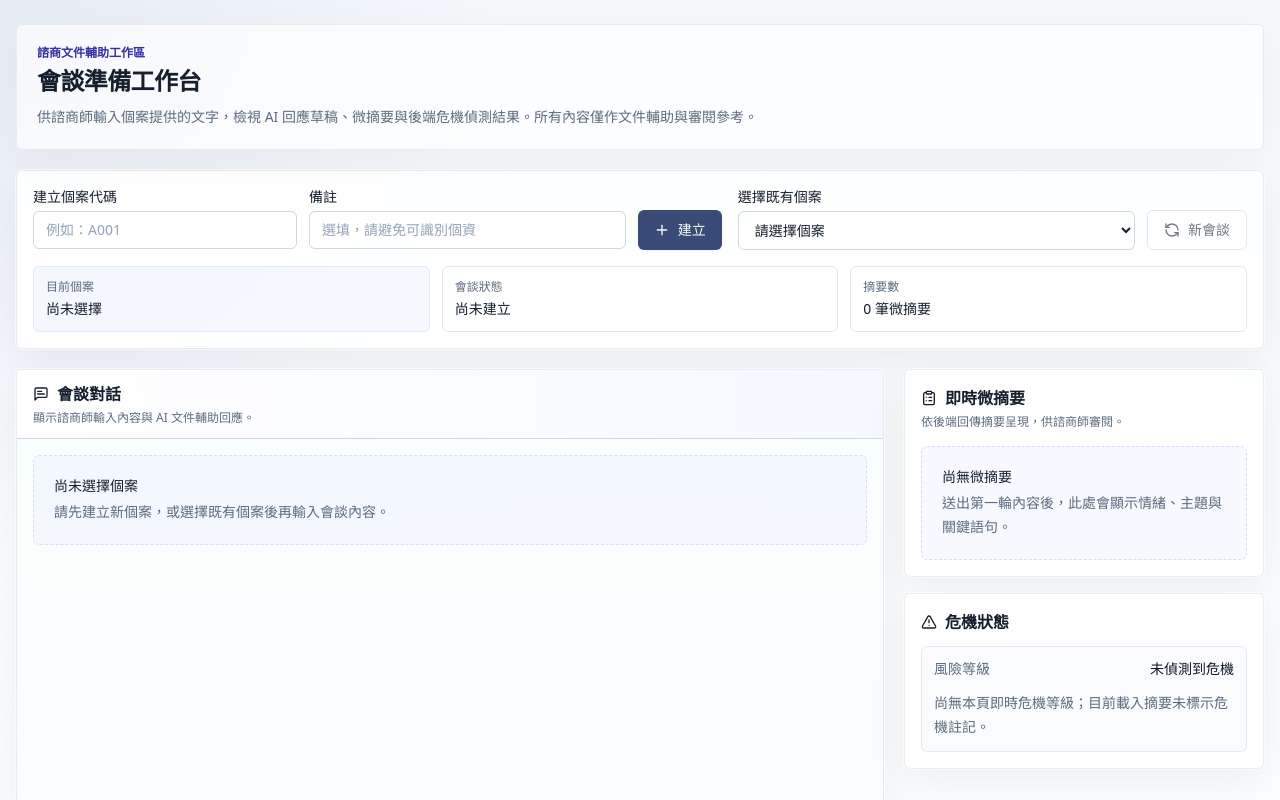
Scenario: ConversationPage durable session creation behavior › create-case flow creates a backend durable session and uses the returned session id
Type "NEW_CASE" into the field labelled "建立個案代碼" at (165, 230), box [33,211,297,249]
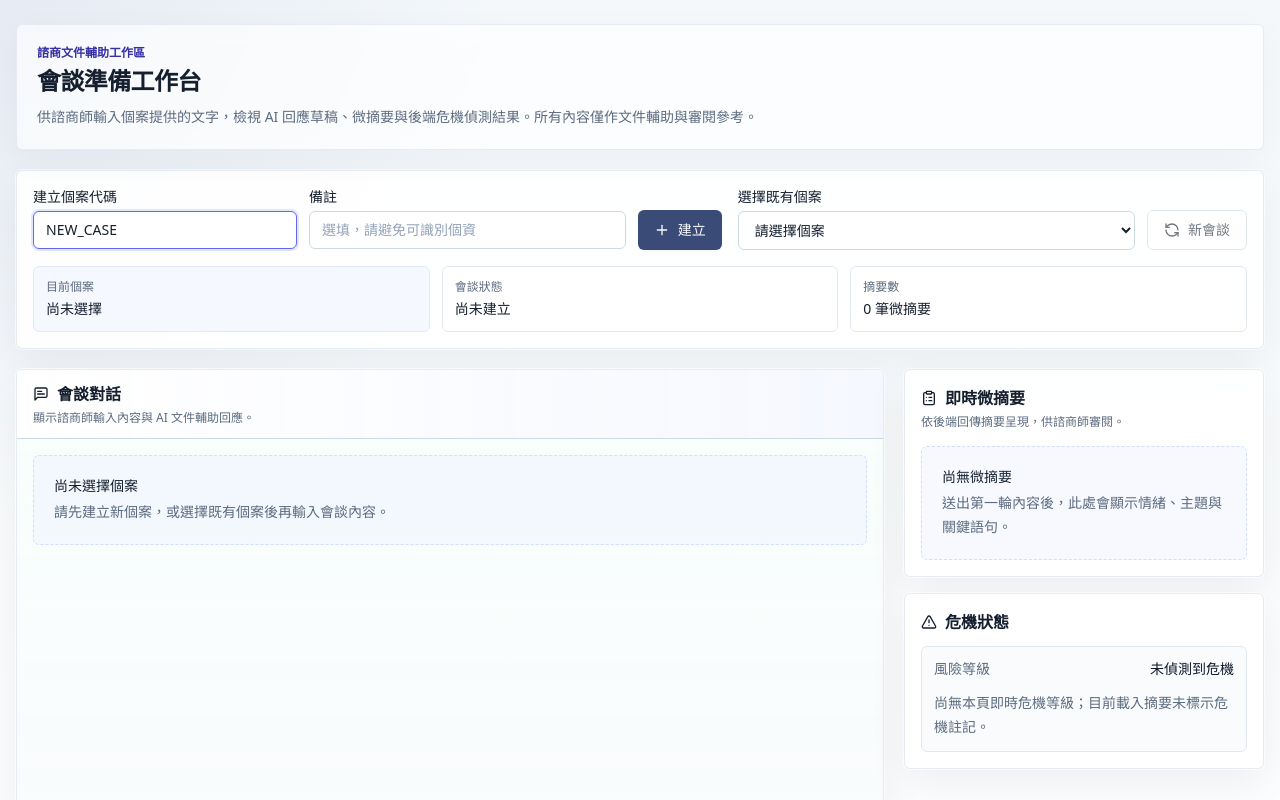
Submit the form, box [33,187,722,250]
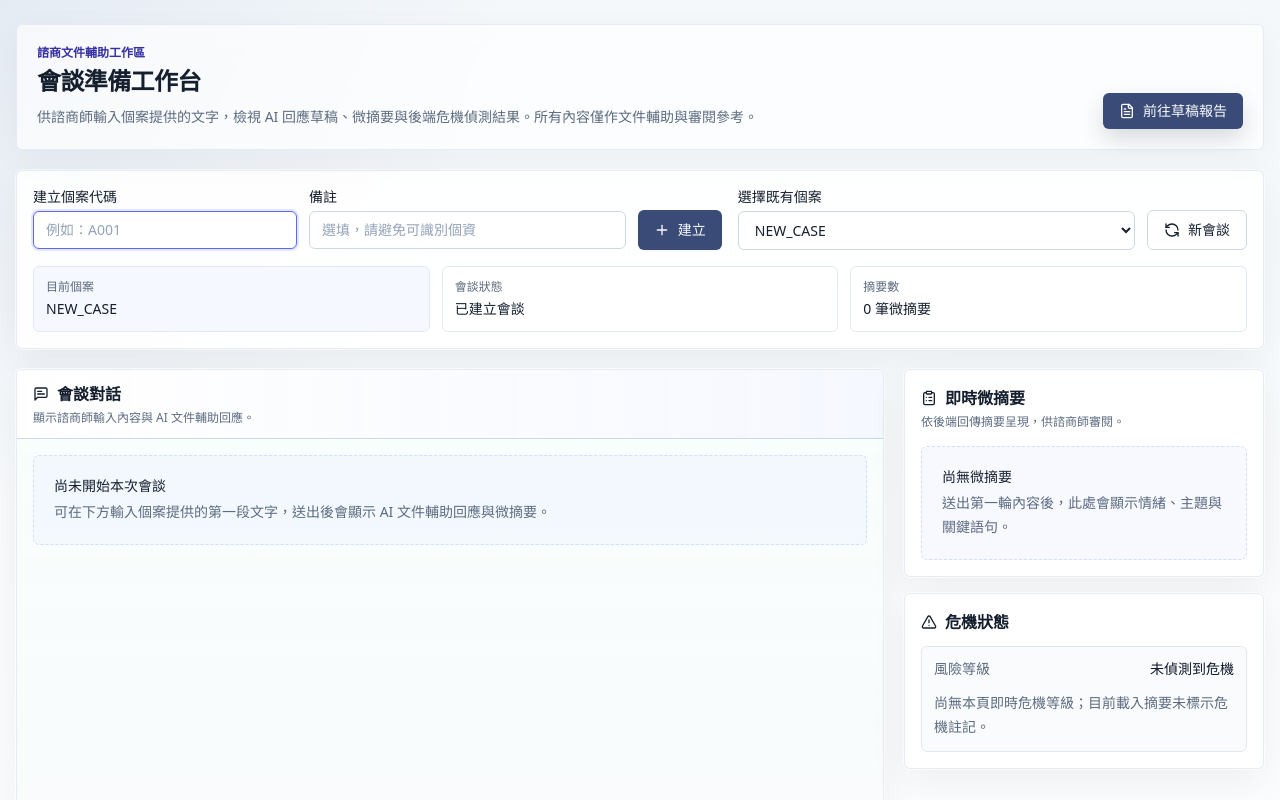
Check: the link to "/report/new-case-id?sessionId=backend-session-after-case-create" is shown, box [1103,93,1243,129]
